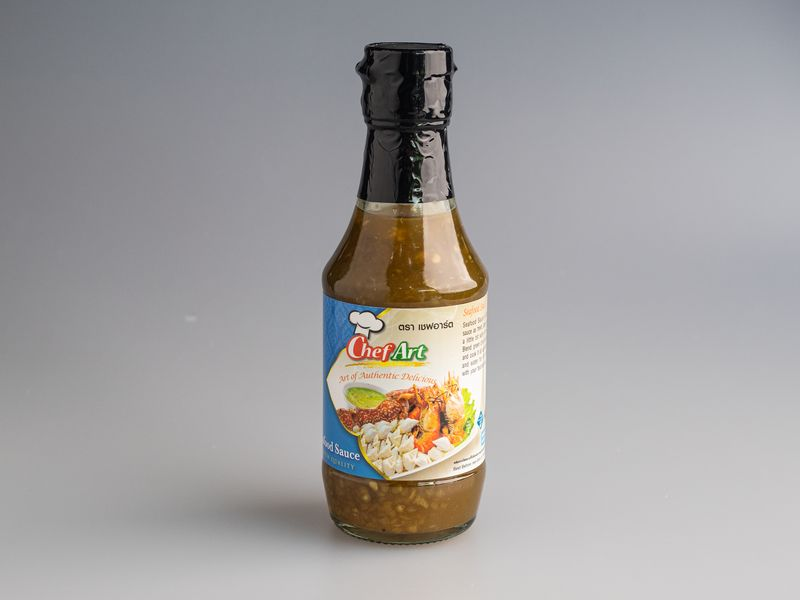glass_bottle: (303, 26, 508, 557)
